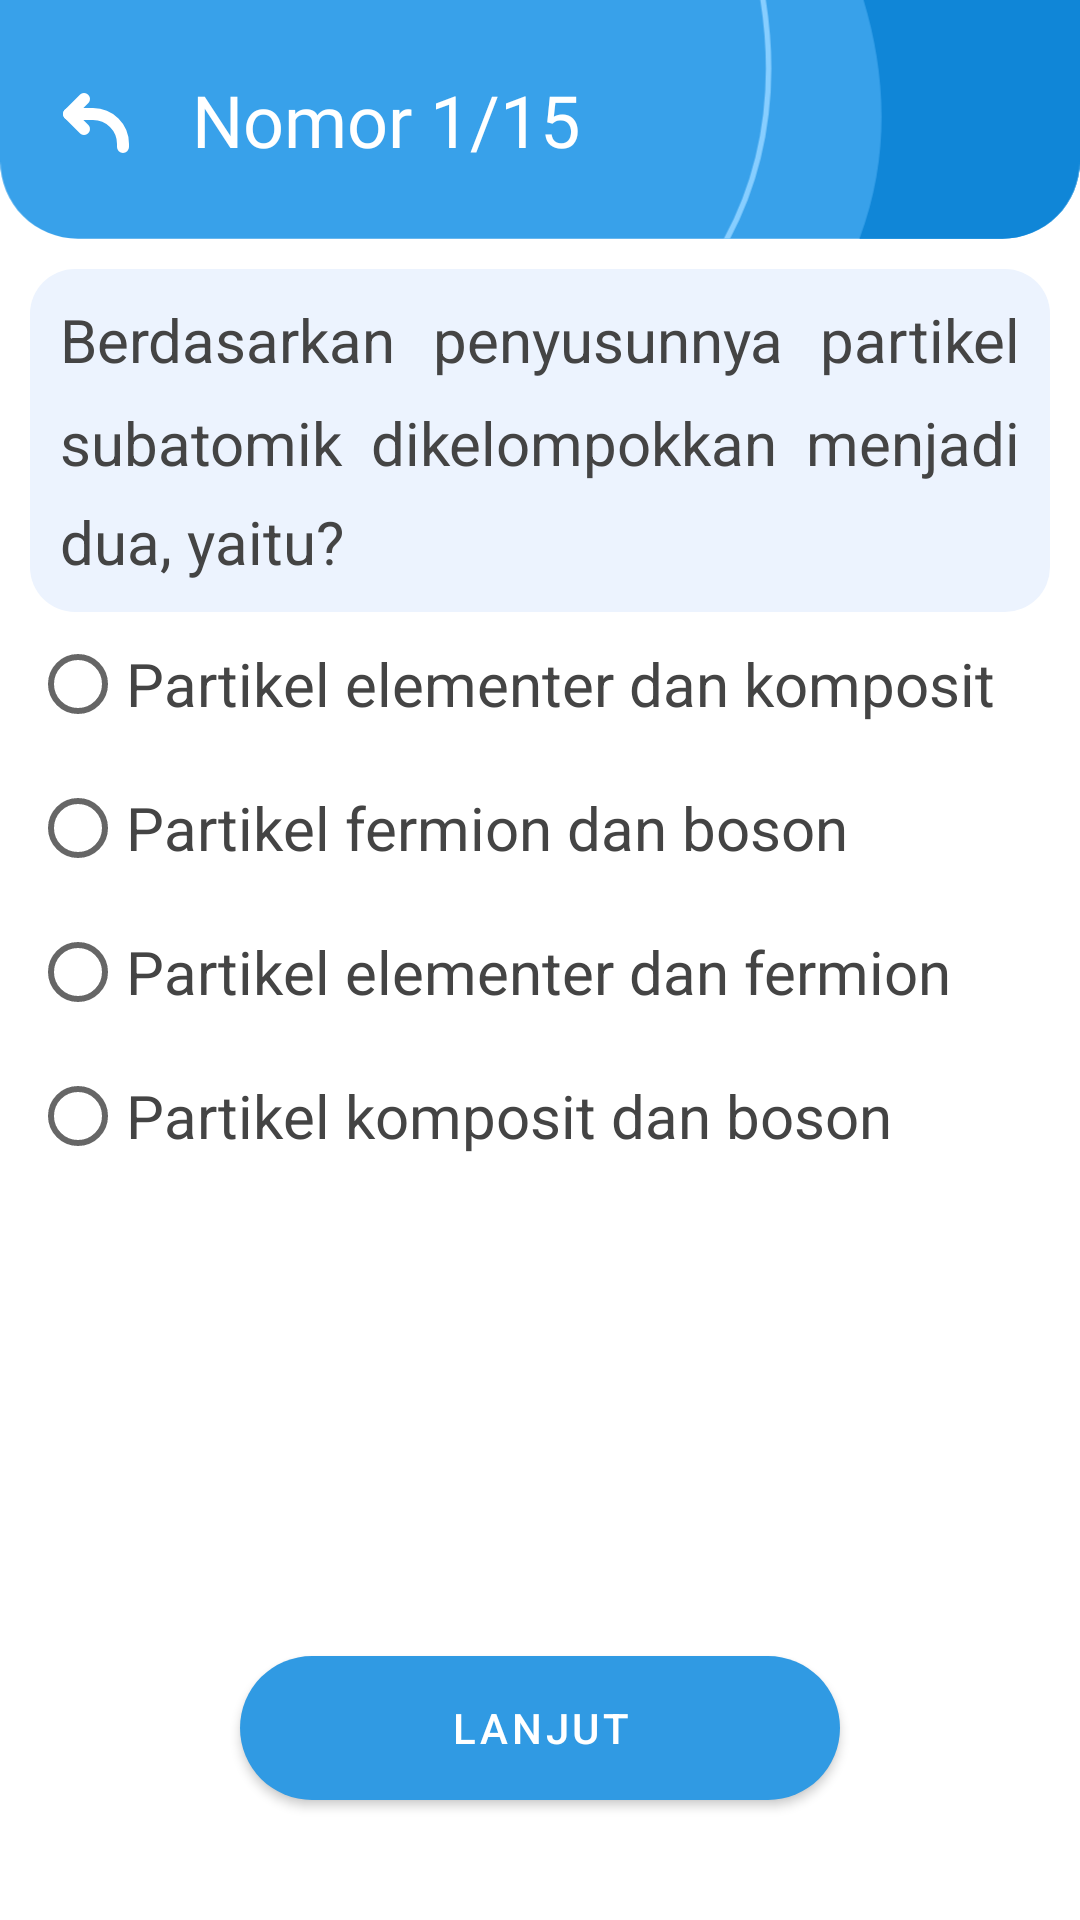

Icon click points for this 1080*1920 phone screenshot, format [x,y]:
arrow back: [96,123]
